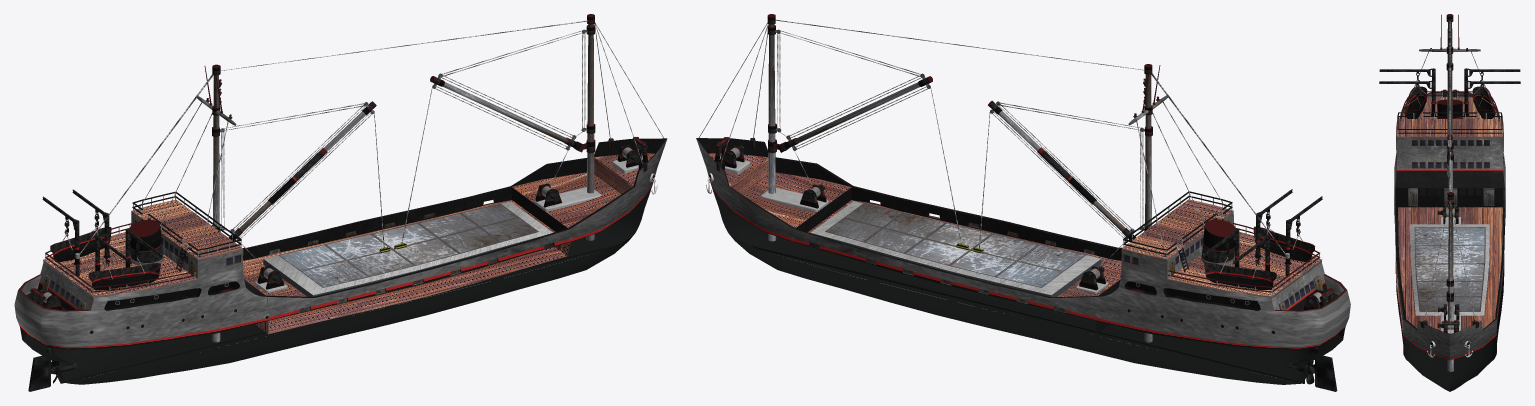
File: FishingBoat1.glb
3 views of the same model, side by side, from view 1: azimuth 30°, elevation 25°; view 2: azimuth 150°, elevation 25°; view 3: azimuth 270°, elevation 25° (orthographic). The views are drawn at different scales.
Visible parts, largest first — view 1: Object_30, Object_26, Object_6, Object_25, Object_27, Object_21, Object_23, Object_19, Object_28, Object_32, Object_34, Object_33 (+2 smaller); view 2: Object_30, Object_26, Object_25, Object_6, Object_27, Object_21, Object_23, Object_19, Object_28, Object_32, Object_34, Object_33 (+2 smaller); view 3: Object_30, Object_6, Object_25, Object_26, Object_27, Object_23, Object_19, Object_21, Object_34, Object_7, Object_32, Object_8 (+4 smaller).
Boxes of the visible parts, x1,y1,x2,y2 form: Object_30: [14, 138, 667, 349]; Object_26: [20, 182, 653, 384]; Object_6: [43, 153, 654, 334]; Object_25: [220, 30, 587, 312]; Object_27: [30, 14, 647, 310]; Object_21: [80, 20, 664, 271]; Object_23: [130, 24, 594, 342]; Object_19: [263, 187, 601, 295]; Object_28: [37, 83, 647, 309]; Object_32: [18, 191, 241, 311]; Object_34: [64, 189, 162, 267]; Object_33: [42, 196, 131, 271]; Object_30: [696, 138, 1350, 349]; Object_26: [710, 182, 1345, 384]; Object_25: [775, 30, 1144, 312]; Object_6: [708, 153, 1321, 296]; Object_27: [714, 14, 1335, 310]; Object_21: [698, 19, 1285, 271]; Object_23: [768, 24, 1234, 342]; Object_19: [761, 187, 1100, 295]; Object_28: [716, 82, 1328, 309]; Object_32: [1123, 191, 1346, 311]; Object_34: [1202, 189, 1300, 267]; Object_33: [1233, 196, 1322, 271]; Object_30: [1394, 128, 1505, 360]; Object_6: [1395, 97, 1503, 334]; Object_25: [1395, 68, 1504, 317]; Object_26: [1394, 188, 1505, 391]; Object_27: [1395, 14, 1503, 332]; Object_23: [1419, 22, 1480, 371]; Object_19: [1410, 224, 1489, 328]; Object_21: [1401, 21, 1498, 333]; Object_34: [1379, 71, 1520, 115]; Object_7: [1396, 136, 1489, 195]; Object_32: [1397, 92, 1502, 133]; Object_8: [1408, 188, 1494, 206].
Bounding box in the file's own units: 11.42 × 4.8 × 2.74.
Materials: 27 (25 with a texture image).
